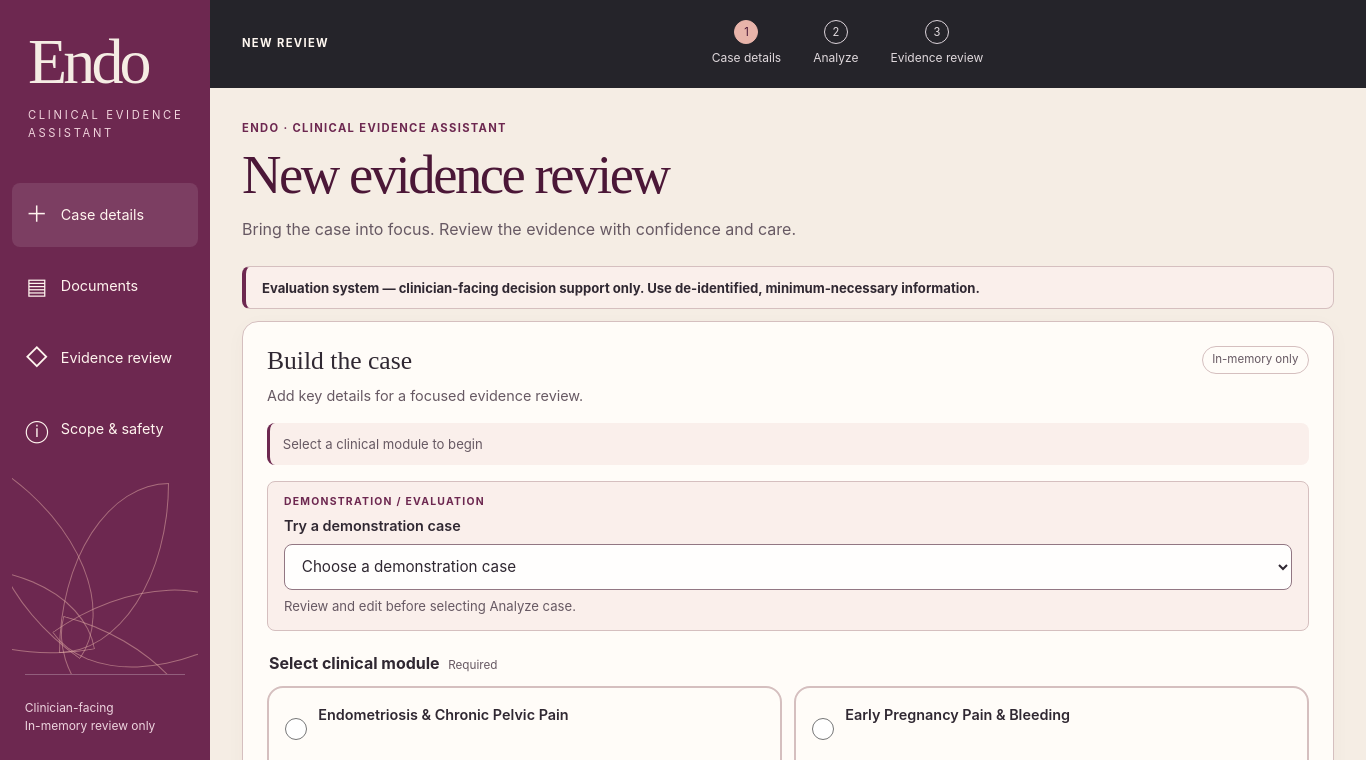
orders the workflow and keeps scope and repeated unknown context out of the primary path
Expected: the dropdown labelled "Try a demonstration case" shows "Choose a demonstration case", [284,544,1292,590]
Expected: the text "Select a clinical module to begin" is shown, [267,423,1309,464]
Step 1. Click the radio button labelled "Endometriosis & Chronic Pelvic Pain" → (296,729), box [285,706,307,752]
(page scrolled)
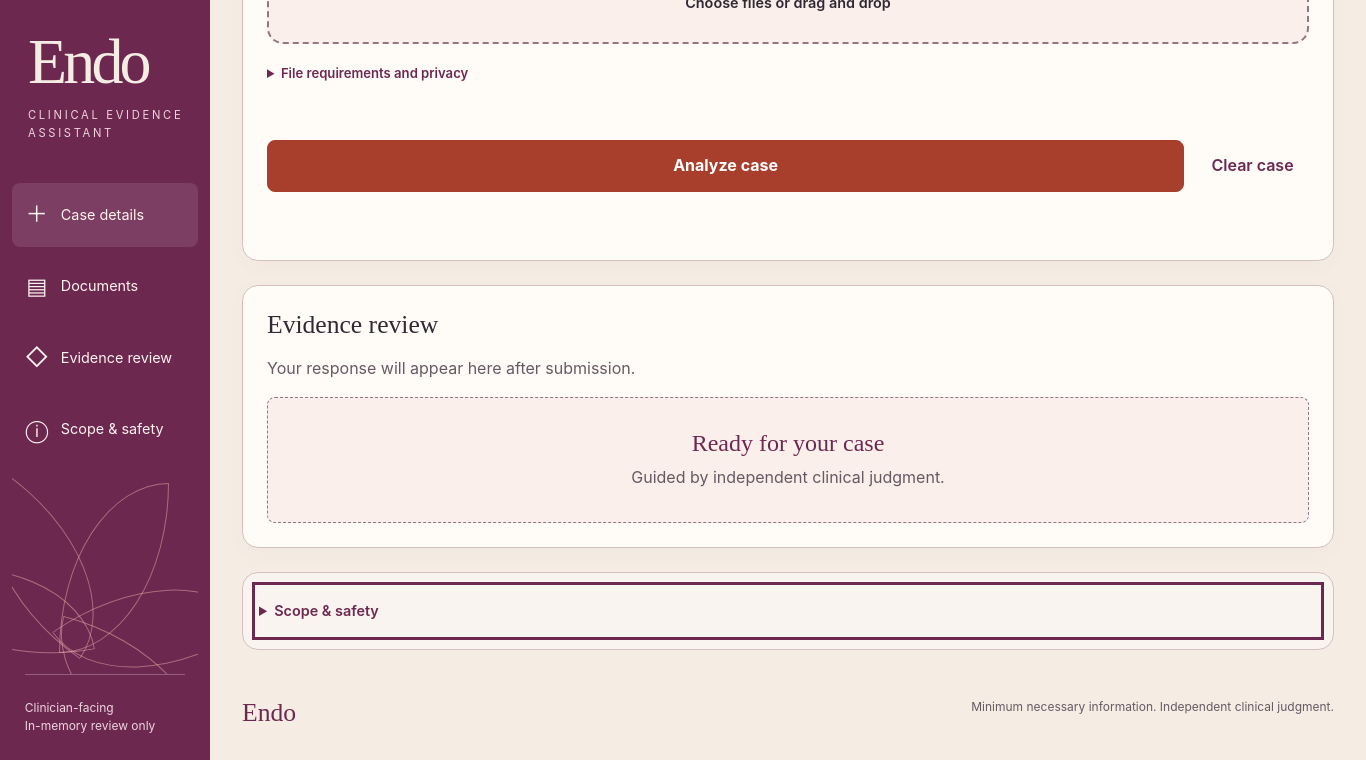
Step 2. Click the heading "Scope & safety" → (327,610), box [274,602,379,619]
(page scrolled)
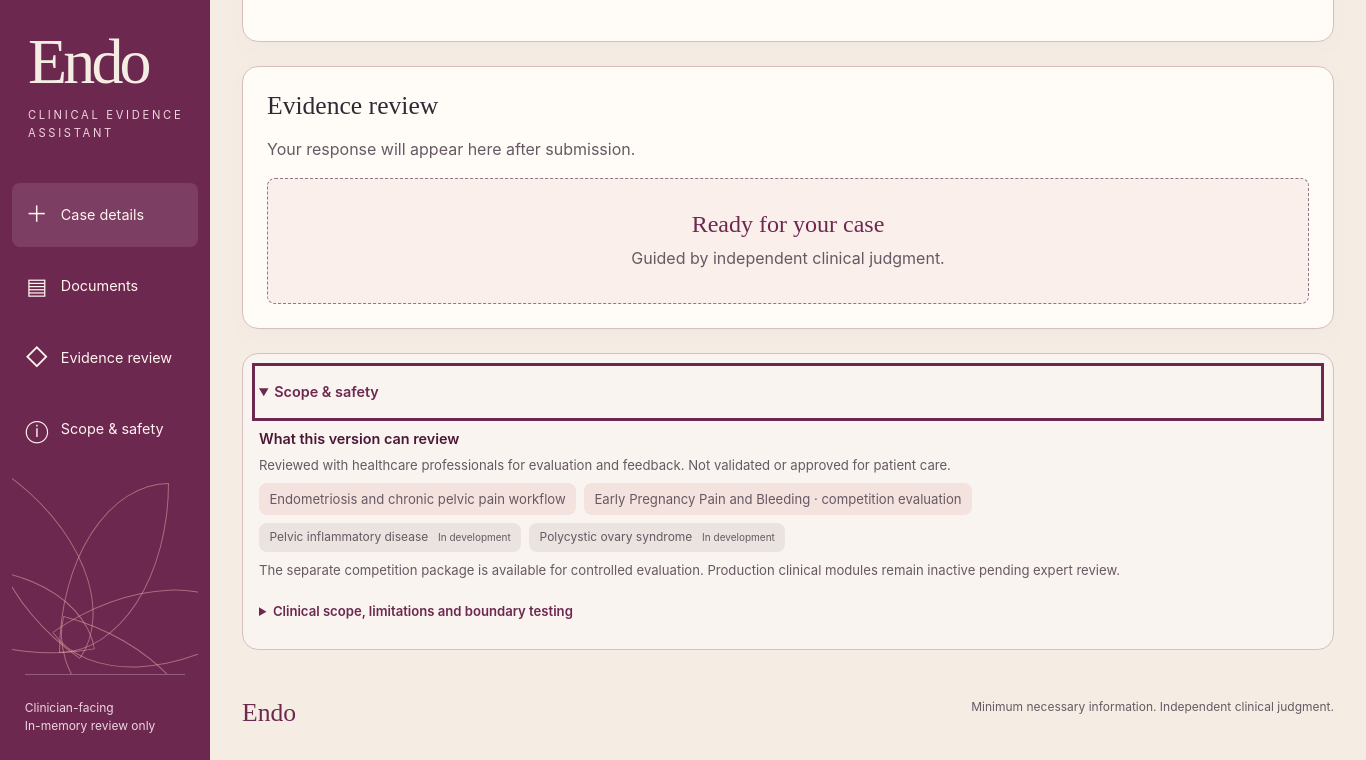
Expected: the text "Production clinical modules remain inactive" is shown, [259,562,1120,578]
